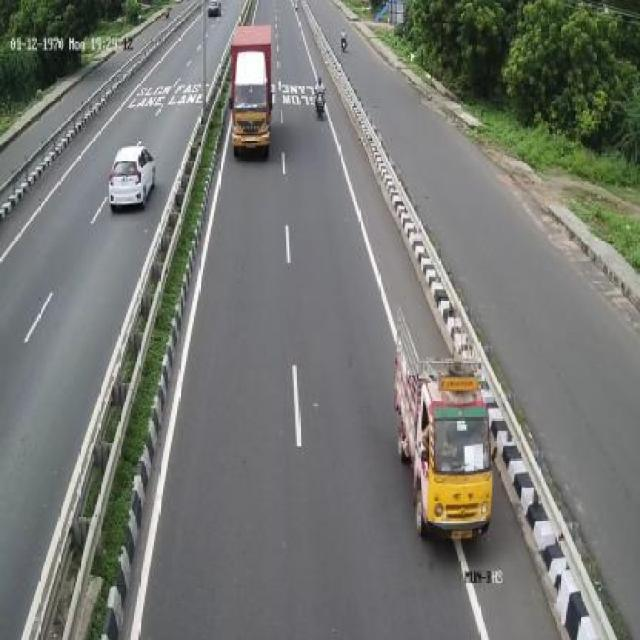car: (112, 144, 157, 213)
